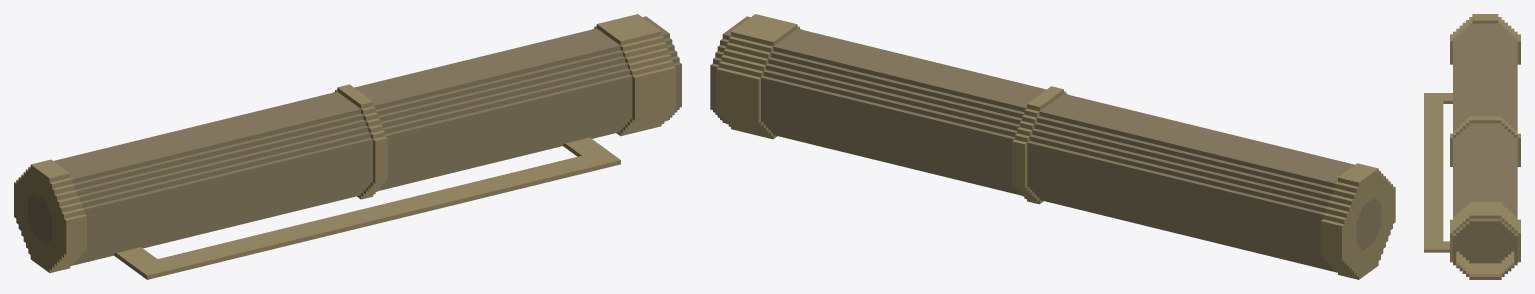
The model's file is quiver_simple_cloth.glb.
The picture shows the model from 3 angles, left to right: view 1: azimuth 30°, elevation 25°; view 2: azimuth 150°, elevation 25°; view 3: azimuth 270°, elevation 25°; orthographic projection. The views are drawn at different scales.
Parts seen in each view (by area): view 1: quiver_simple_cloth:compound; view 2: quiver_simple_cloth:compound; view 3: quiver_simple_cloth:compound.
Boxes of the visible parts, box(x1,y1,x2,y2) form: quiver_simple_cloth:compound: box(14, 14, 681, 279); quiver_simple_cloth:compound: box(710, 14, 1395, 279); quiver_simple_cloth:compound: box(1424, 14, 1520, 279).
Bounding box in the file's own units: 0.6 × 0.088 × 0.12.
